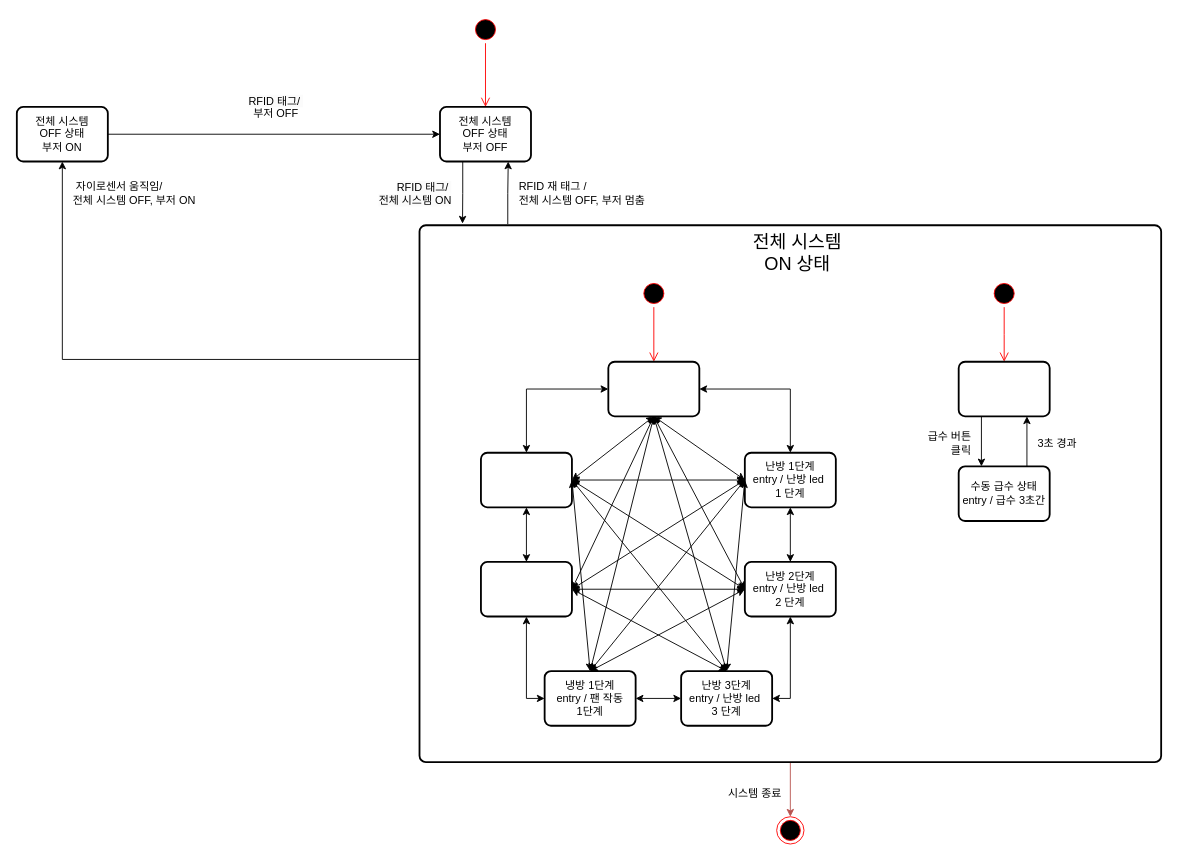
This 1178x860 diagram has some shape labels left out. Each missing label, with the box of its shape:
냉난방 자동 상태: (607, 360, 700, 417)
냉방 2단계 entry / 팬 작동 2단계: (480, 561, 572, 617)
냉방 3단계 entry / 팬 작동 3단계: (480, 451, 572, 508)
자동 급수 상태: (957, 360, 1050, 417)
